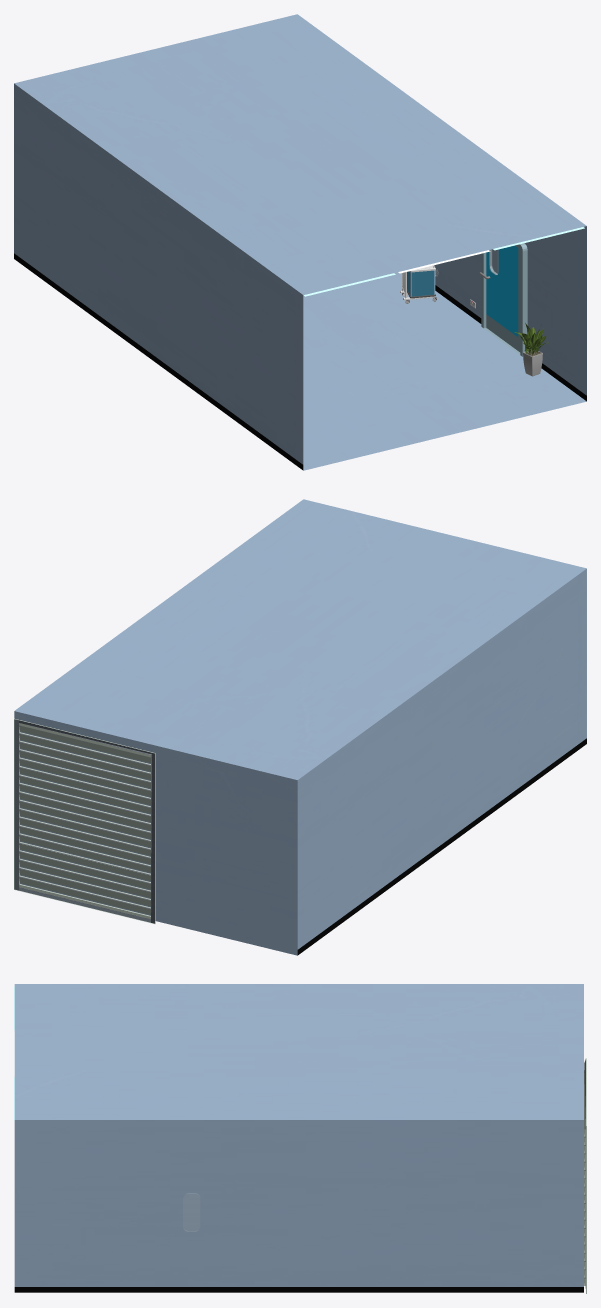
File: room-refined-v1.glb
3 renders of one model, top to bottom at view 1: azimuth 30°, elevation 25°; view 2: azimuth 150°, elevation 25°; view 3: azimuth 270°, elevation 25°, orthographic.
Visible parts, largest first — view 1: 立方体, 门, 推车5, 植物, 灯; view 2: 立方体, 窗2; view 3: 立方体, 窗2, 门.
Boxes of the visible parts, bbox=[...] form: 立方体: bbox=[14, 14, 586, 470]; 门: bbox=[479, 243, 527, 356]; 推车5: bbox=[400, 265, 438, 303]; 植物: bbox=[514, 323, 548, 376]; 灯: bbox=[303, 227, 584, 296]; 立方体: bbox=[14, 499, 586, 955]; 窗2: bbox=[14, 718, 155, 924]; 立方体: bbox=[14, 984, 583, 1292]; 窗2: bbox=[584, 1058, 586, 1293]; 门: bbox=[183, 1193, 199, 1231].
Size of the model in its own units: 3.57 by 2.14 by 6.32.
50 materials, 14 textured.
